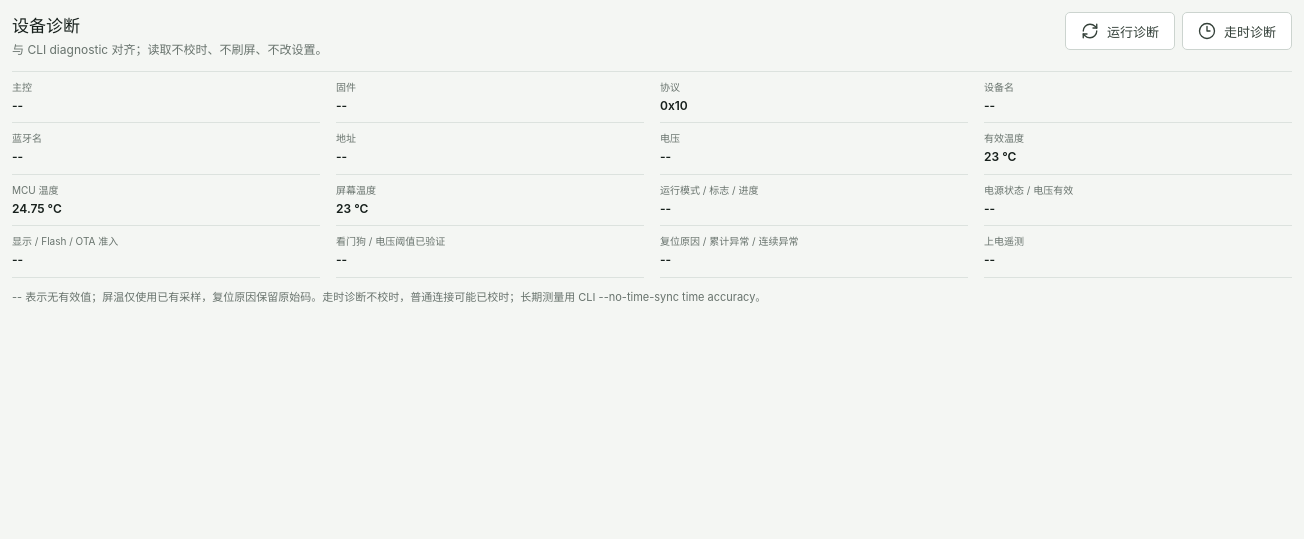
Scenario: reads one clock sample only and removes it after identity change
The image size is (1304, 539).
Later steps or results of the test are not shown.
Click the button "走时诊断" at (1237, 31), box [1182,12,1292,50]
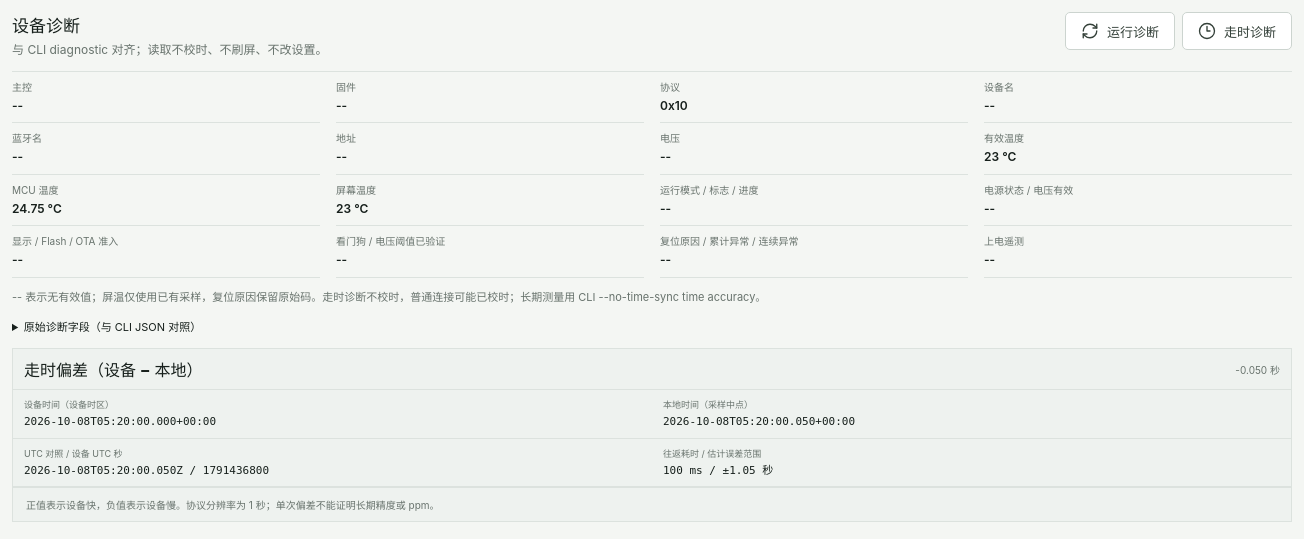
Now the text "设备时间（设备时区）" is shown, box [24,399,114,410]
